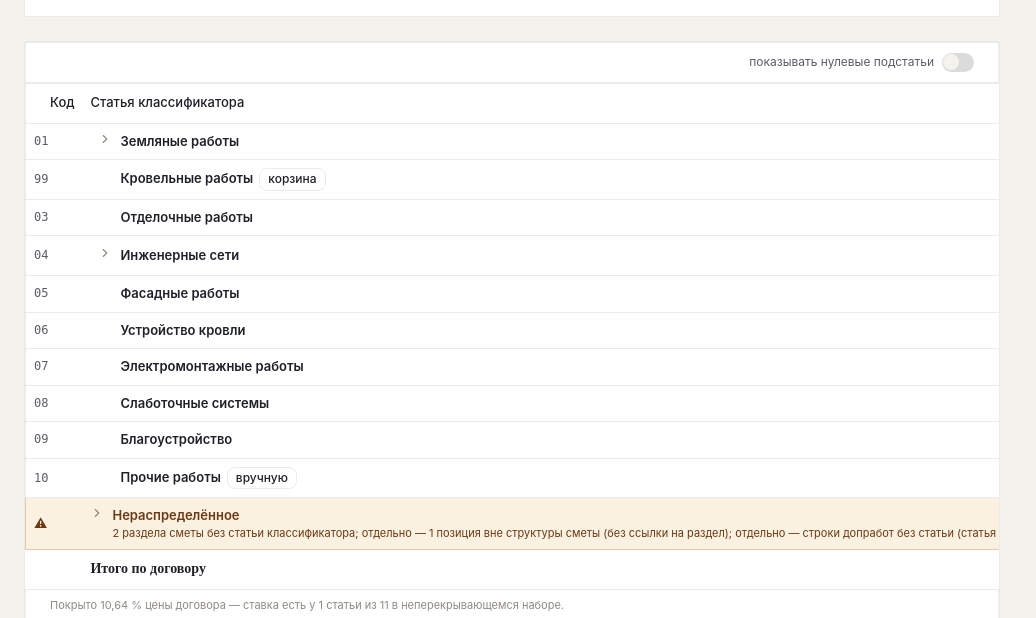
Test case: Паспорт проекта: таблица по статьям › у листа с допработами служебная строка называется «Позиции сметы»
The image size is (1036, 618).
(page scrolled)
Click the button named "Развернуть статью 04" at (106, 253), box [98, 246, 112, 260]
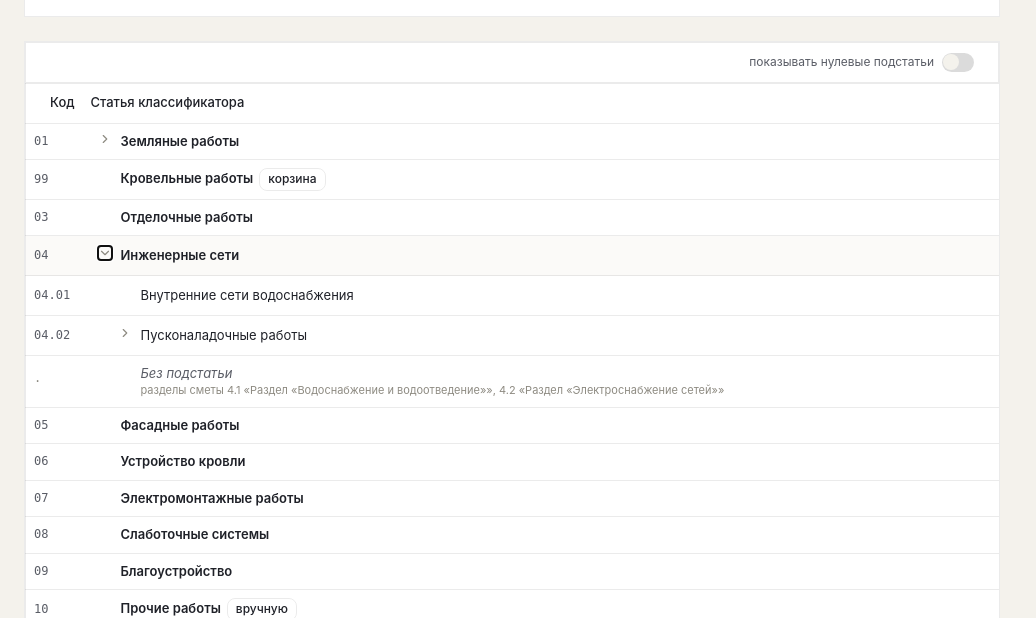
Click the button named "Развернуть статью 04.02" at (126, 333), box [118, 326, 132, 340]
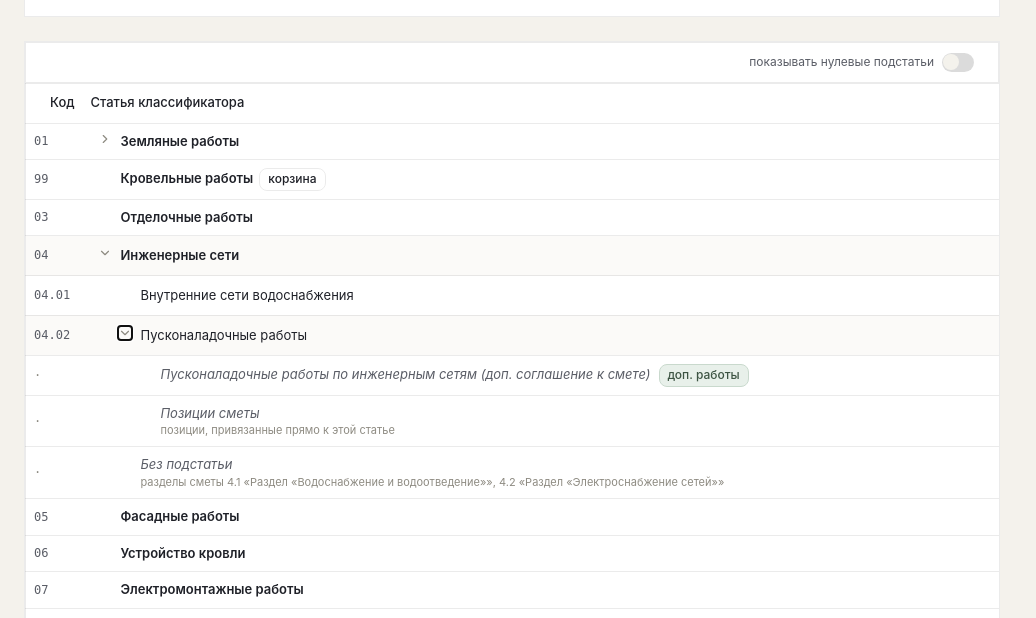
Expected: the text "Позиции сметы" is shown, [160, 404, 260, 420]
